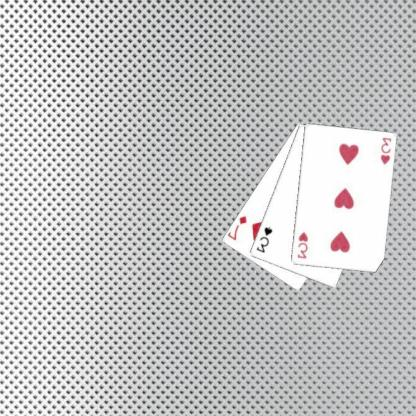3H: (296, 229, 311, 260), (379, 135, 394, 166)
3S: (255, 224, 275, 254)
7D: (227, 213, 250, 242)
